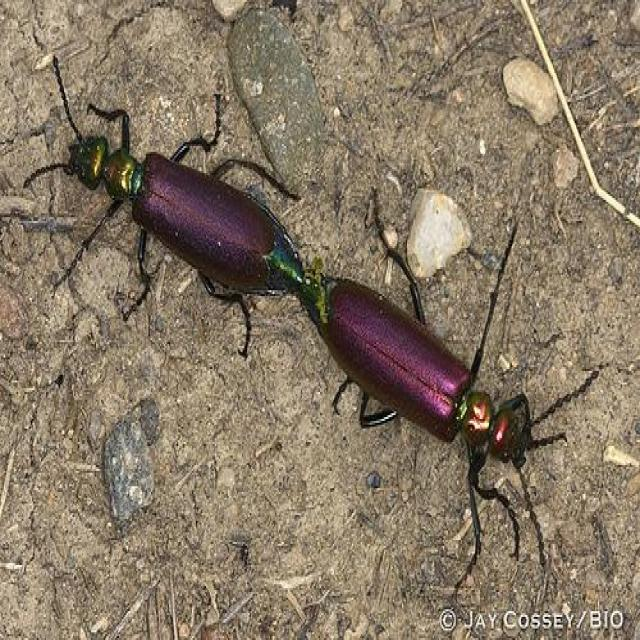BlisterBeetle-Adult-: (310, 190, 590, 575), (34, 46, 303, 336)
